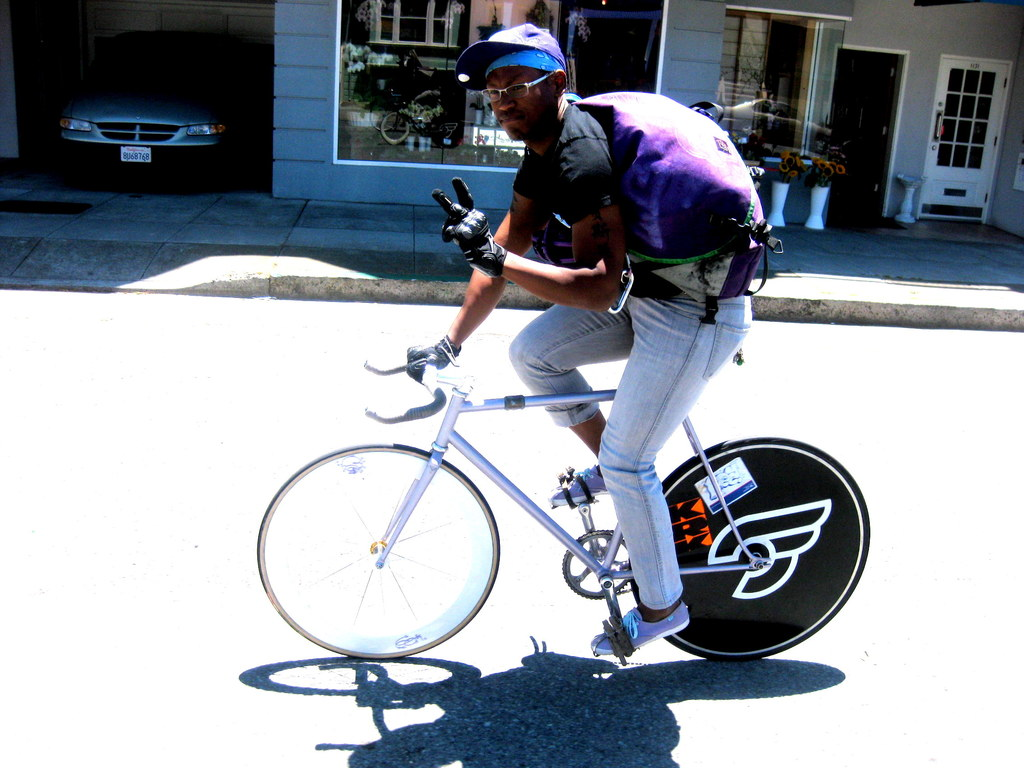Bike: (243, 356, 873, 664)
